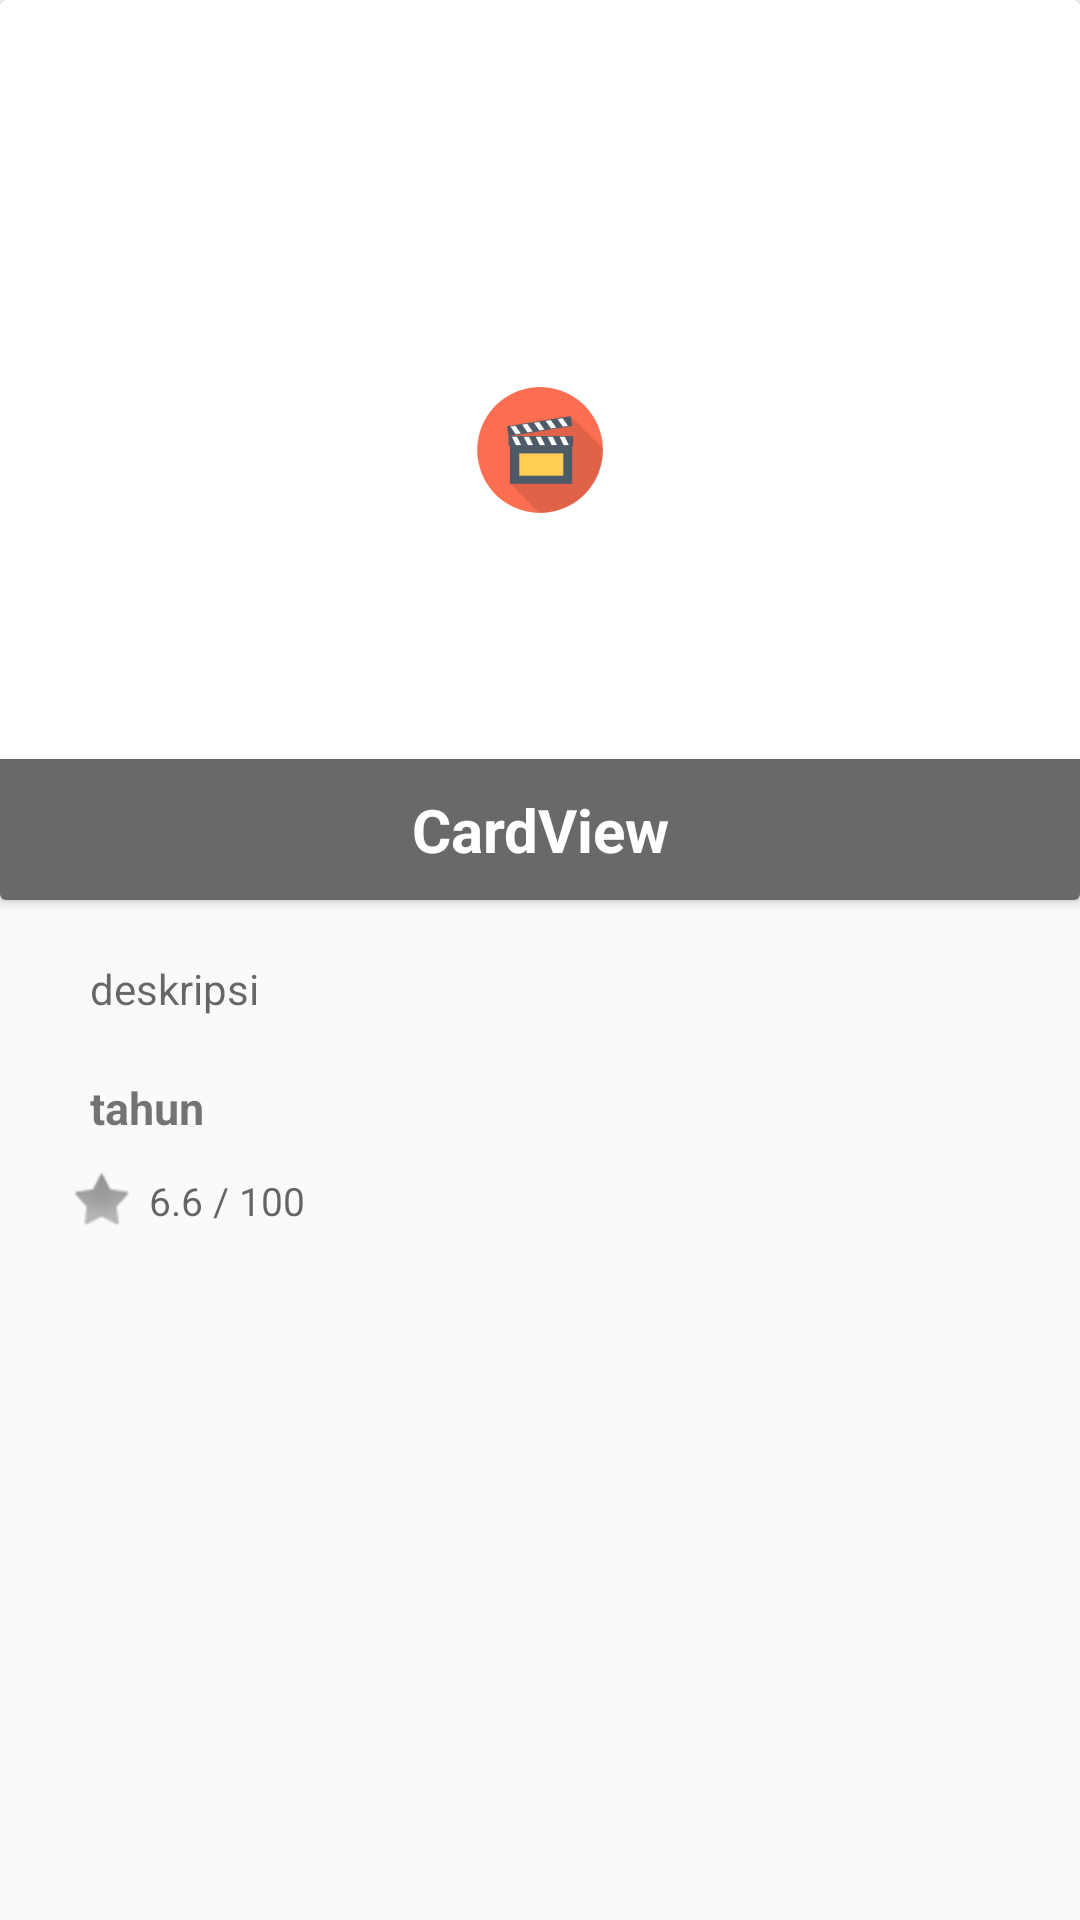

Icons on this 1080x1920 Android screen, each with the point to tap as (x=x, y=y):
star off: (x=101, y=1198)
